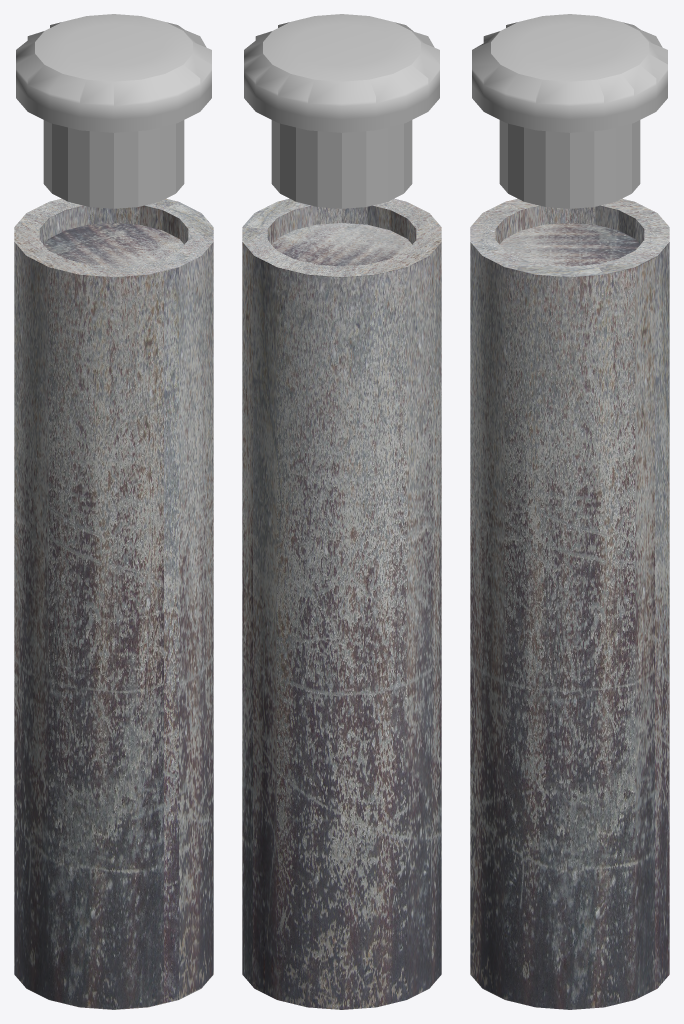
The model's file is StemAndPush.fbx.
3 renders of one model, left to right at view 1: azimuth 30°, elevation 25°; view 2: azimuth 150°, elevation 25°; view 3: azimuth 270°, elevation 25°, orthographic.
Visible parts, largest first — view 1: Cylinder001, Cylinder002; view 2: Cylinder001, Cylinder002; view 3: Cylinder001, Cylinder002.
Boxes of the visible parts, x1=… form: Cylinder001: x1=14, y1=198, x2=213, y2=1009; Cylinder002: x1=16, y1=14, x2=211, y2=208; Cylinder001: x1=242, y1=198, x2=441, y2=1009; Cylinder002: x1=244, y1=14, x2=439, y2=208; Cylinder001: x1=470, y1=198, x2=669, y2=1009; Cylinder002: x1=472, y1=14, x2=667, y2=208.
Size of the model in its own units: 0.3158 by 0.311 by 1.59.
